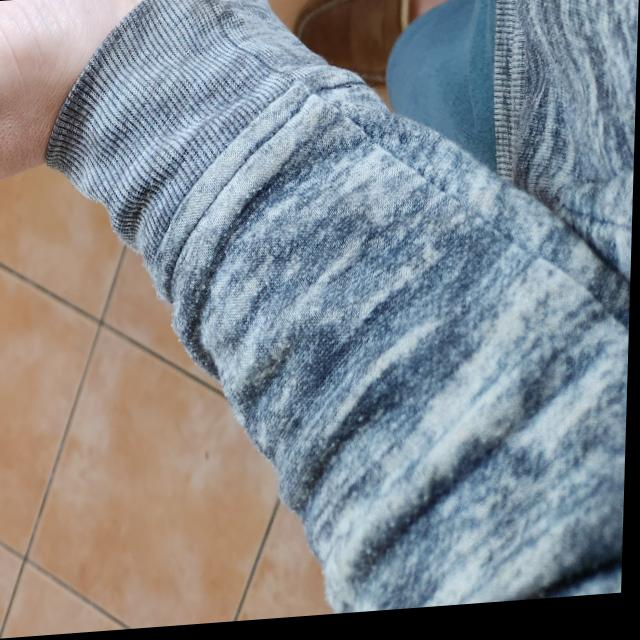tomato: (0, 0, 8, 16)
